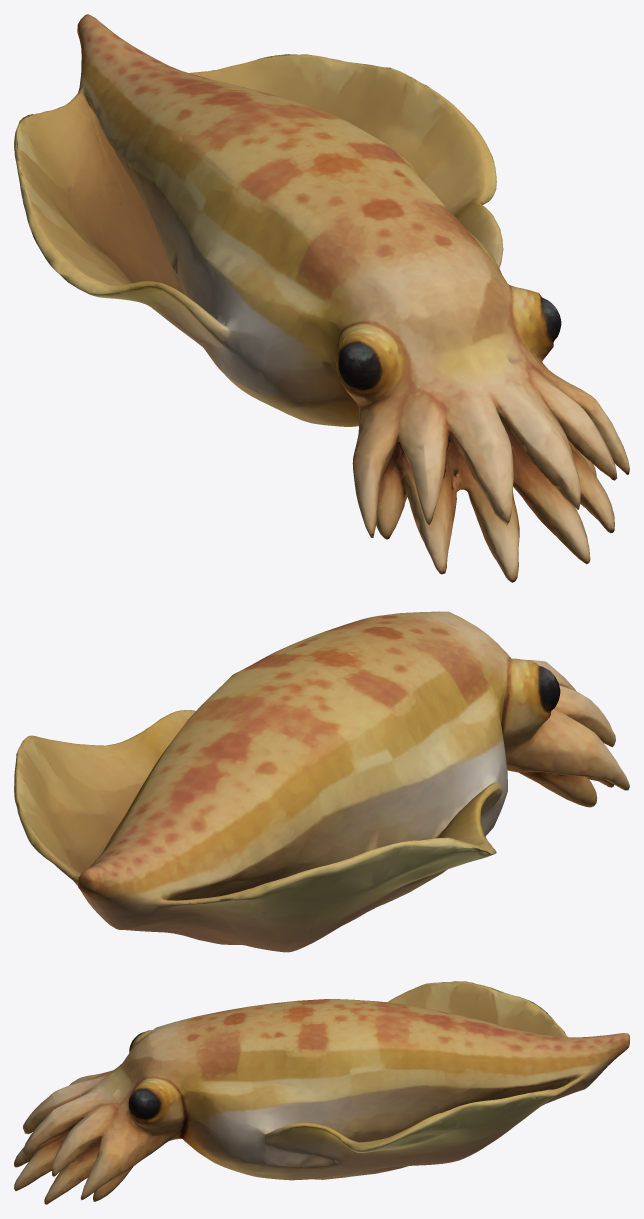
3 renders of one model, top to bottom at view 1: azimuth 30°, elevation 25°; view 2: azimuth 150°, elevation 25°; view 3: azimuth 270°, elevation 25°, orthographic. The views are drawn at different scales.
Visible parts, largest first — view 1: world; view 2: world; view 3: world.
Part boxes in pixels (box(x1,y1,x2,y2)): world: box(14, 14, 629, 582); world: box(14, 611, 629, 952); world: box(14, 981, 629, 1204).
Bounding box in the file's own units: 0.044 × 0.0241 × 0.08.
1 material, 1 textured.
